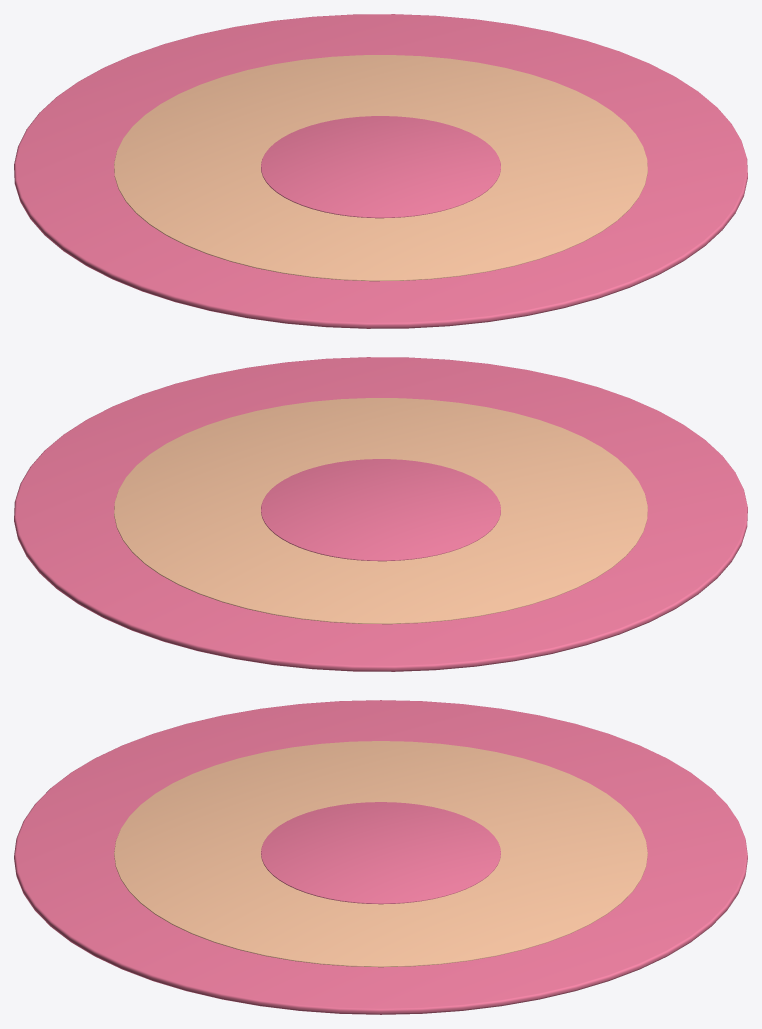
Rendered from tapete_redondo_rosa.glb.
The picture shows the model from 3 angles, top to bottom: view 1: azimuth 30°, elevation 25°; view 2: azimuth 150°, elevation 25°; view 3: azimuth 270°, elevation 25°; orthographic projection.
Visible parts, largest first — view 1: tapete_redondo_rosa; view 2: tapete_redondo_rosa; view 3: tapete_redondo_rosa.
Part boxes in pixels (x1,y1,x2,y2): tapete_redondo_rosa: (14,14,747,328); tapete_redondo_rosa: (14,357,747,671); tapete_redondo_rosa: (14,700,747,1014).
Bounding box in the file's own units: 1.1 × 0.0132 × 1.1.
Materials: 1 (1 with a texture image).
